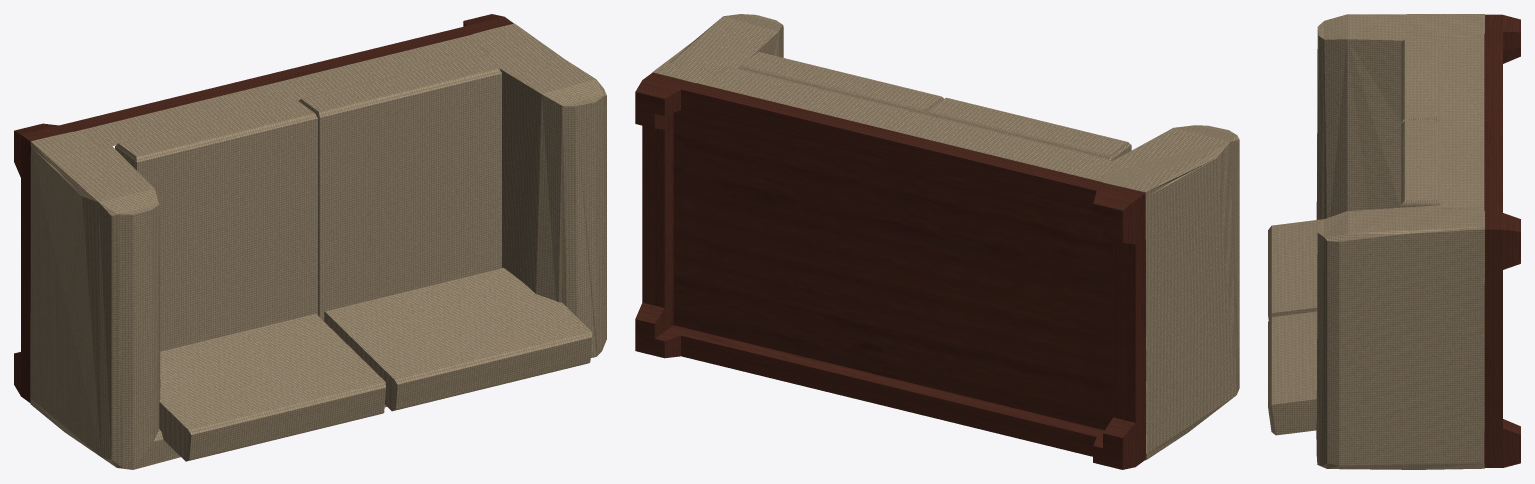
File: loveseat528_wtf.obj
3 renders of one model, left to right at view 1: azimuth 30°, elevation 25°; view 2: azimuth 150°, elevation 25°; view 3: azimuth 270°, elevation 25°, orthographic. The views are drawn at different scales.
Visible parts, largest first — view 1: group4, group3; view 2: group3, group4; view 3: group4, group3.
Boxes of the visible parts, x1,y1,x2,y2 form: group4: (30, 23, 606, 469); group3: (14, 14, 513, 403); group3: (635, 72, 1145, 469); group4: (652, 14, 1239, 460); group4: (1268, 14, 1484, 469); group3: (1484, 14, 1520, 467).
Size of the model in its own units: 660 by 334 by 316.
